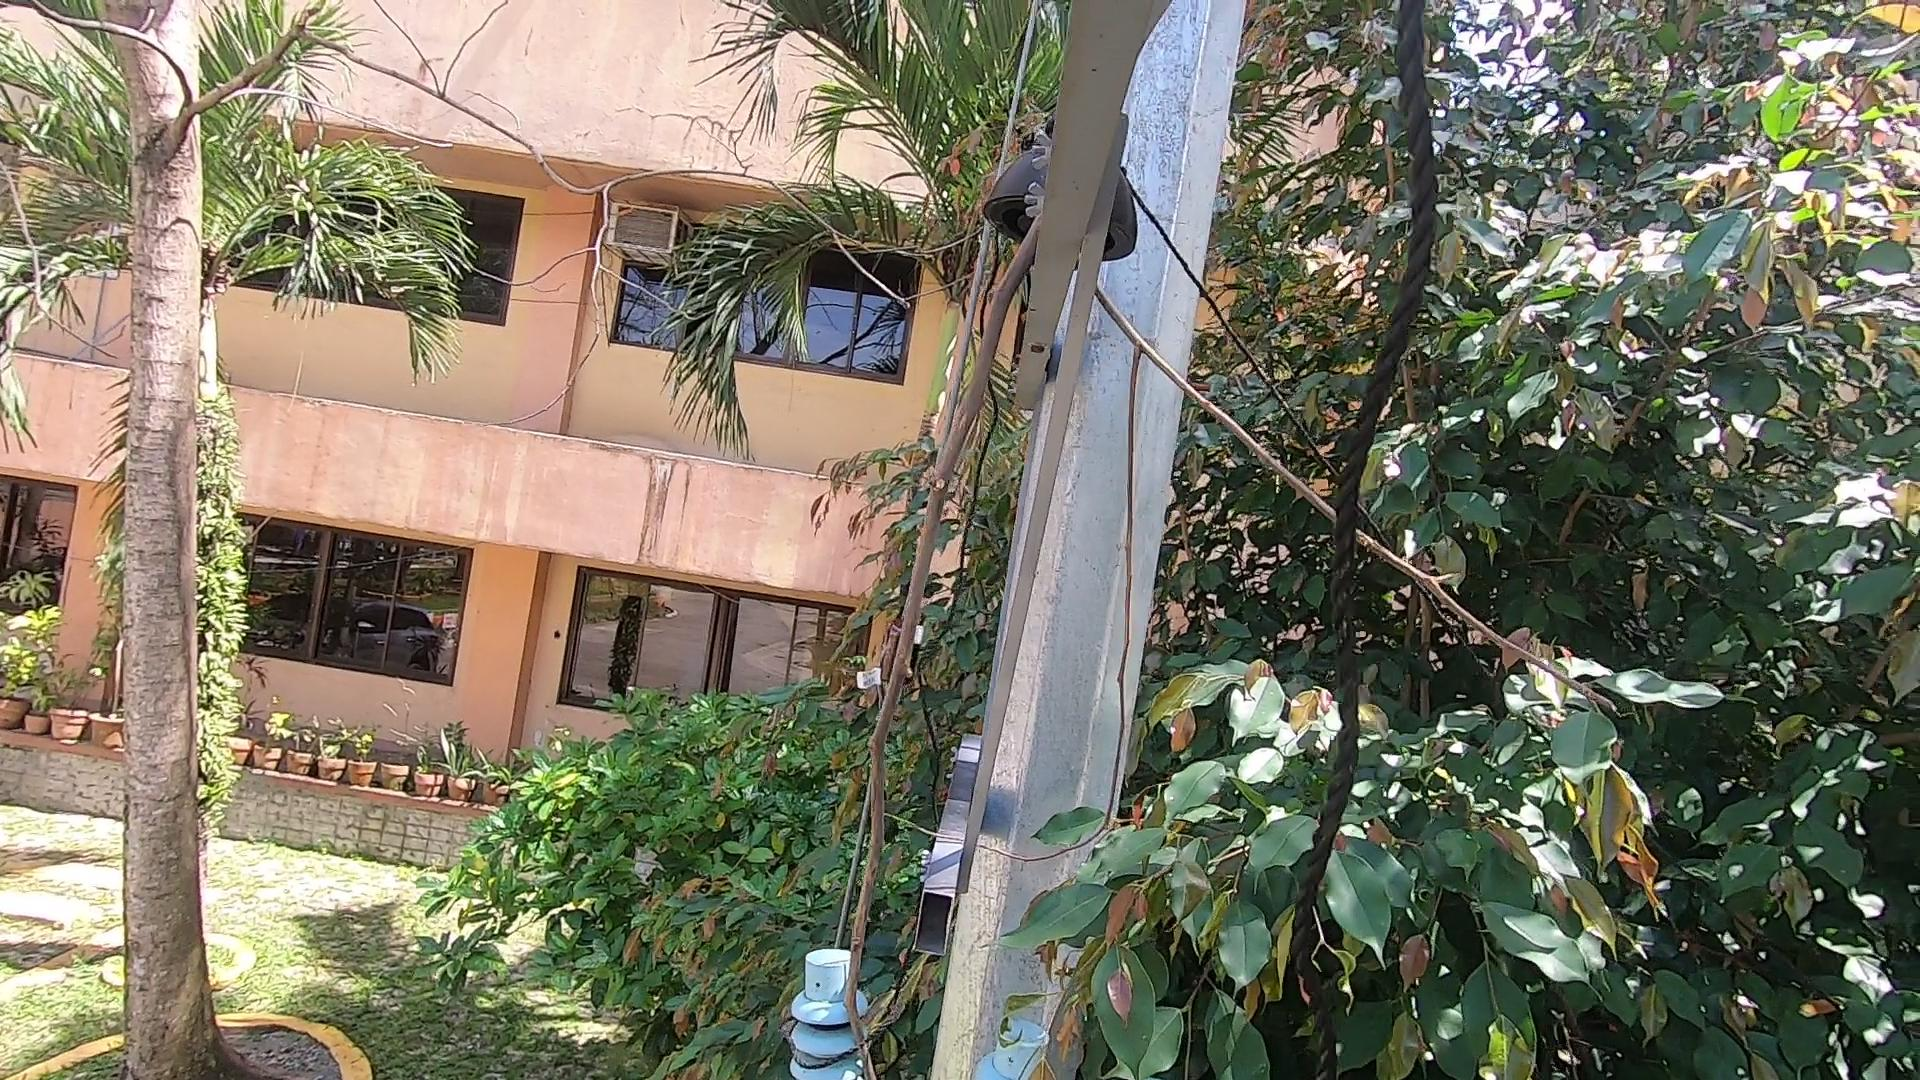branch with leaves: (956, 764, 1317, 1080)
tree branch: (815, 26, 1142, 1080)
